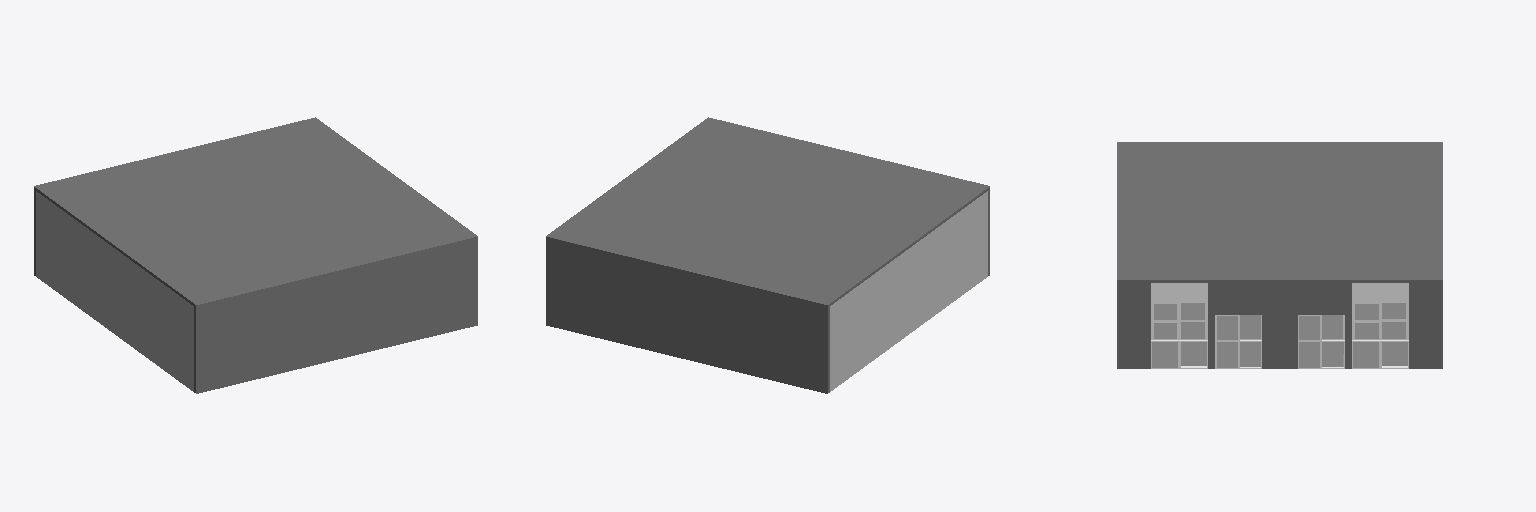
The model's file is testMap.obj.
3 renders of one model, left to right at view 1: azimuth 30°, elevation 25°; view 2: azimuth 150°, elevation 25°; view 3: azimuth 270°, elevation 25°, orthographic.
Parts seen in each view (by area): view 1: Floor_바닥, Wall_벽, Wall_시점; view 2: Floor_바닥, Wall_벽, Wall_시점; view 3: Floor_바닥, Wall_벽, Wall_유리, Wall_고정문, FrontSlideDoor_문, BackSlideDoor_문유리, BackSlideDoor_문, FrontSlideDoor_문유리.
Part boxes in pixels (bbox=[...]): Floor_바닥: bbox=[41, 120, 471, 301]; Wall_벽: bbox=[34, 117, 477, 393]; Wall_시점: bbox=[36, 191, 193, 391]; Floor_바닥: bbox=[552, 120, 982, 301]; Wall_벽: bbox=[546, 117, 989, 393]; Wall_시점: bbox=[830, 191, 987, 391]; Floor_바닥: bbox=[1122, 144, 1437, 277]; Wall_벽: bbox=[1117, 142, 1442, 368]; Wall_유리: bbox=[1152, 303, 1407, 367]; Wall_고정문: bbox=[1151, 283, 1408, 368]; FrontSlideDoor_문: bbox=[1151, 283, 1180, 339]; BackSlideDoor_문유리: bbox=[1382, 303, 1405, 338]; BackSlideDoor_문: bbox=[1382, 283, 1408, 339]; FrontSlideDoor_문유리: bbox=[1154, 304, 1176, 338].
Size of the model in its own units: 2.06 by 0.6239 by 2.06.